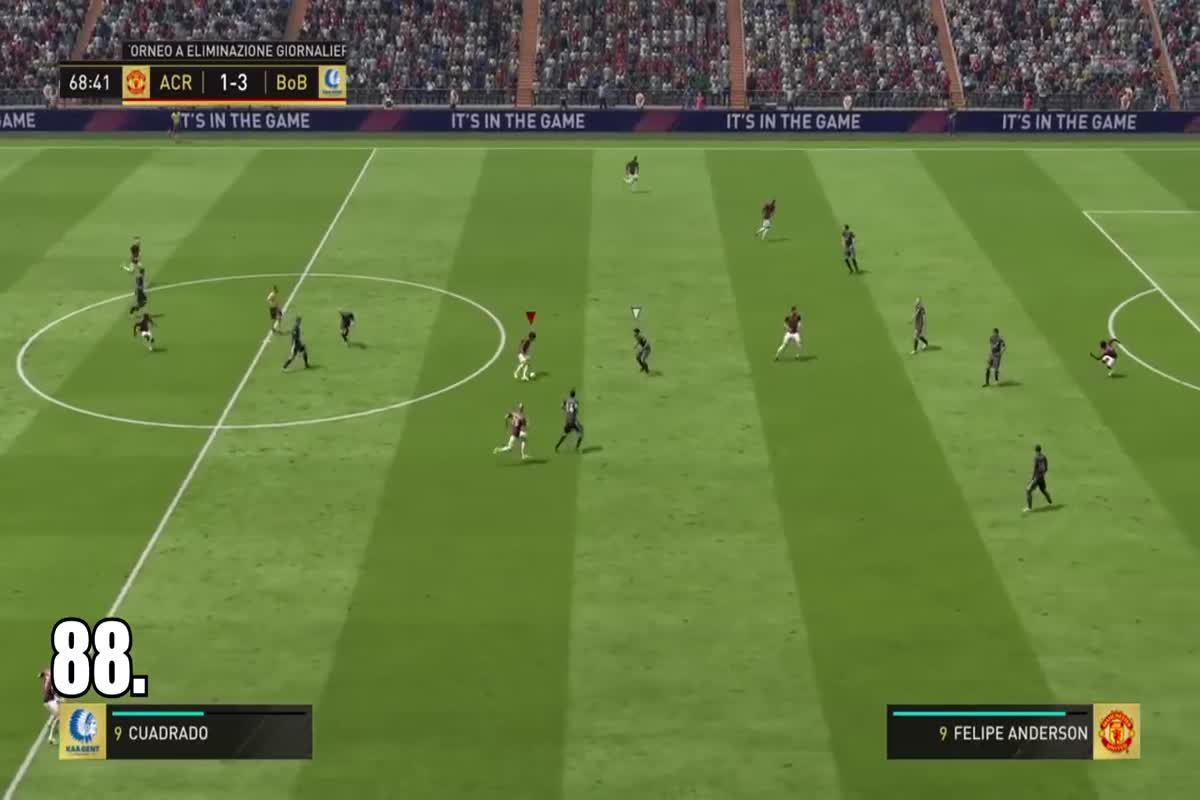ball: (526, 365, 544, 381)
